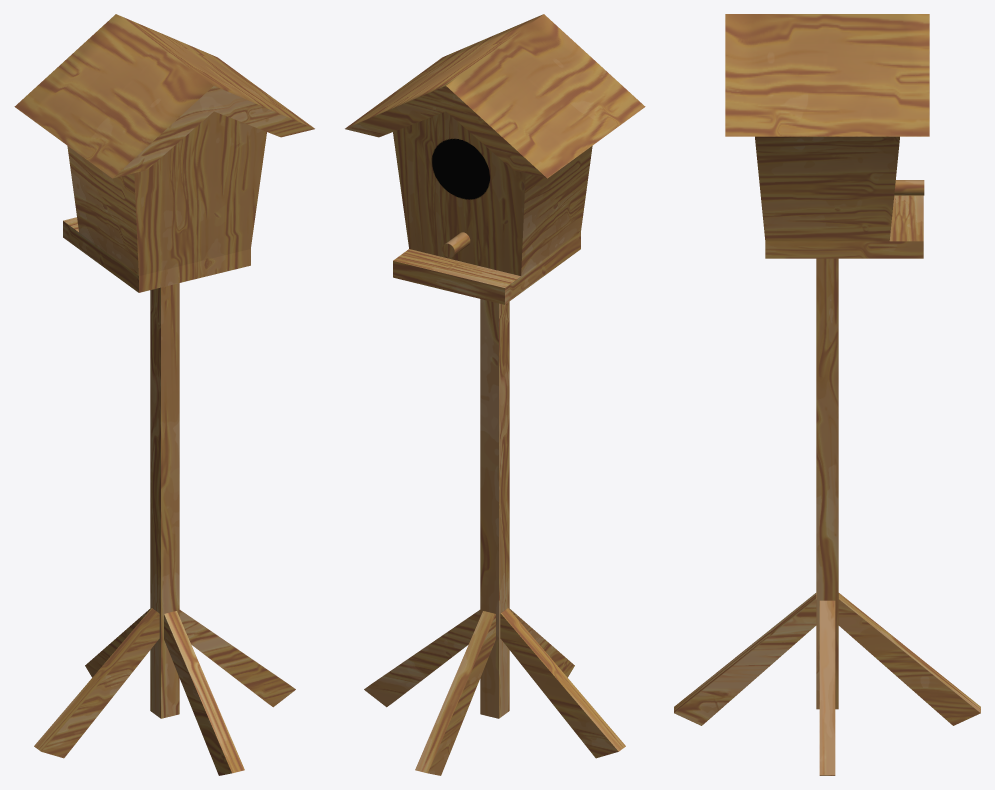
The model's file is BirdHouse.fbx.
3 renders of one model, left to right at view 1: azimuth 30°, elevation 25°; view 2: azimuth 150°, elevation 25°; view 3: azimuth 270°, elevation 25°, orthographic. The views are drawn at different scales.
Parts seen in each view (by area): view 1: BirdHouse; view 2: BirdHouse; view 3: BirdHouse.
Boxes of the visible parts, x1,y1,x2,y2 form: BirdHouse: [14, 14, 314, 775]; BirdHouse: [345, 14, 645, 775]; BirdHouse: [674, 14, 980, 775].
Bounding box in the file's own units: 1.12 × 2.87 × 1.12.
